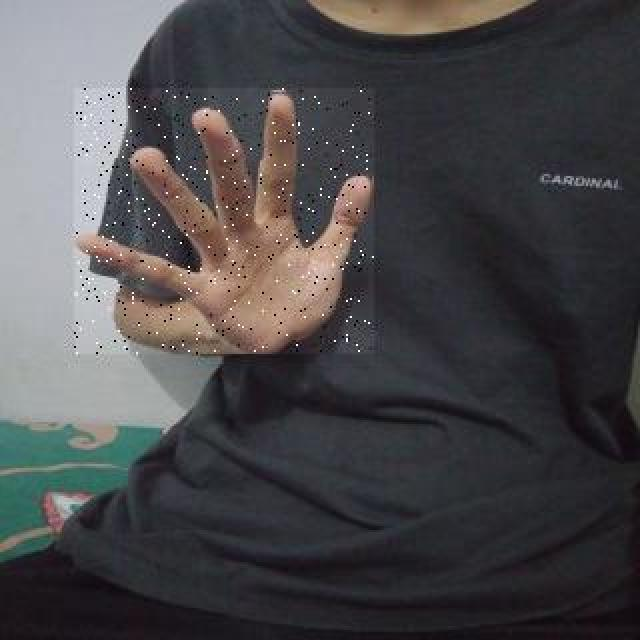hand: (74, 88, 374, 354)
